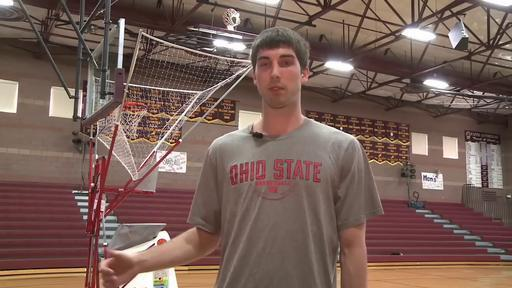human: (98, 27, 384, 288)
